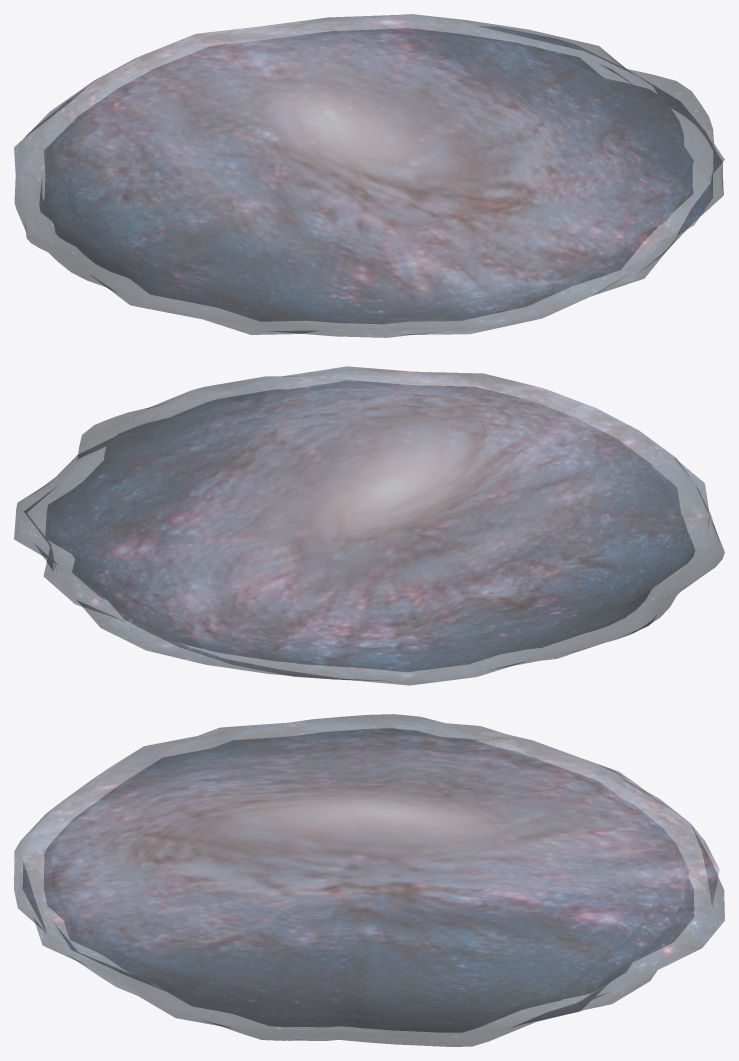
File: milky_way_spiral_galaxy.glb
The picture shows the model from 3 angles, top to bottom: view 1: azimuth 30°, elevation 25°; view 2: azimuth 150°, elevation 25°; view 3: azimuth 270°, elevation 25°; orthographic projection. The views are drawn at different scales.
Parts seen in each view (by area): view 1: Object_2; view 2: Object_2; view 3: Object_2.
Part boxes in pixels (left/top/right/bottom): Object_2: left=14, top=14, right=724, bottom=337; Object_2: left=14, top=366, right=724, bottom=685; Object_2: left=14, top=714, right=724, bottom=1046.
Bounding box in the file's own units: 1407 × 259 × 1397.
Materials: 1 (1 with a texture image).
